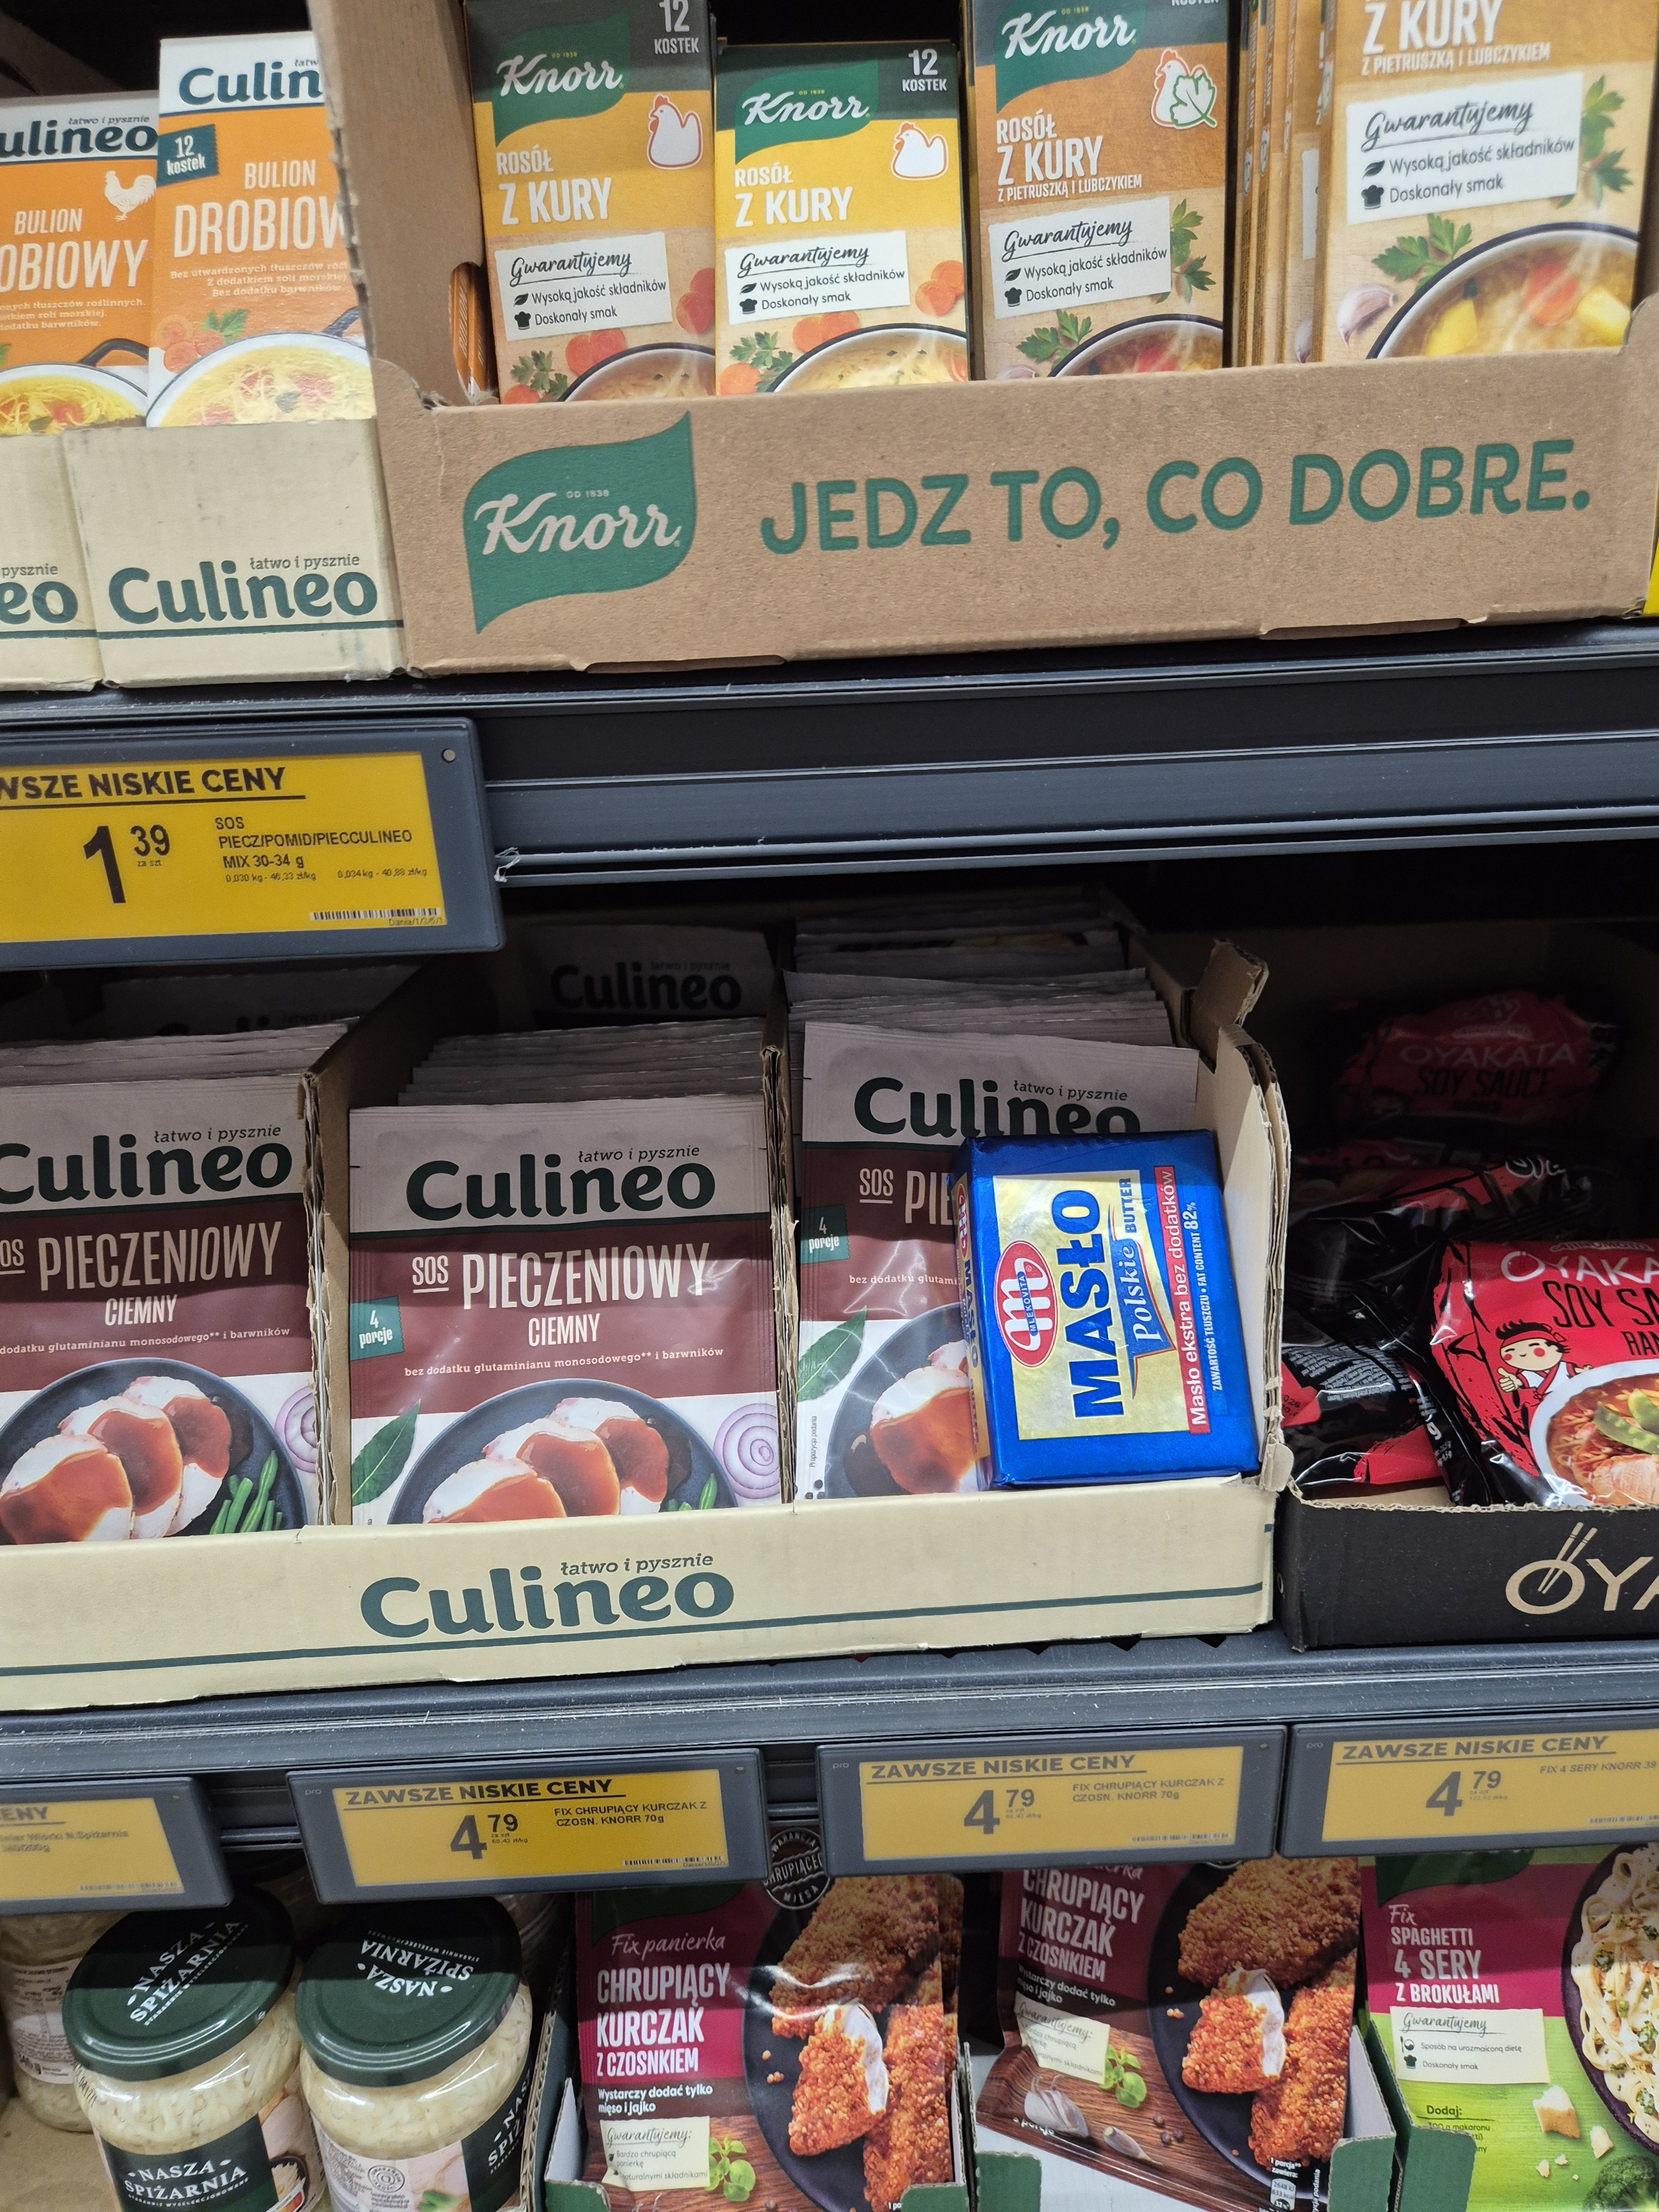Butter: (965, 1115, 1272, 1507)
